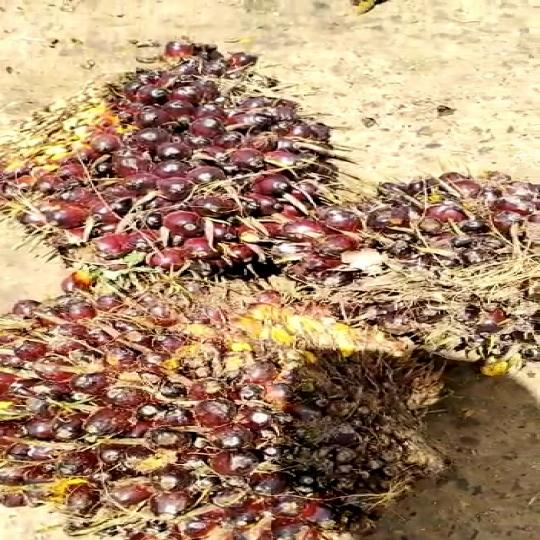kurang masak: (0, 270, 454, 540), (0, 49, 352, 293), (268, 175, 540, 373)
